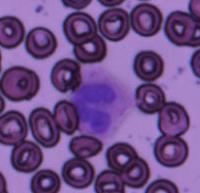N: (70, 65, 134, 139)
